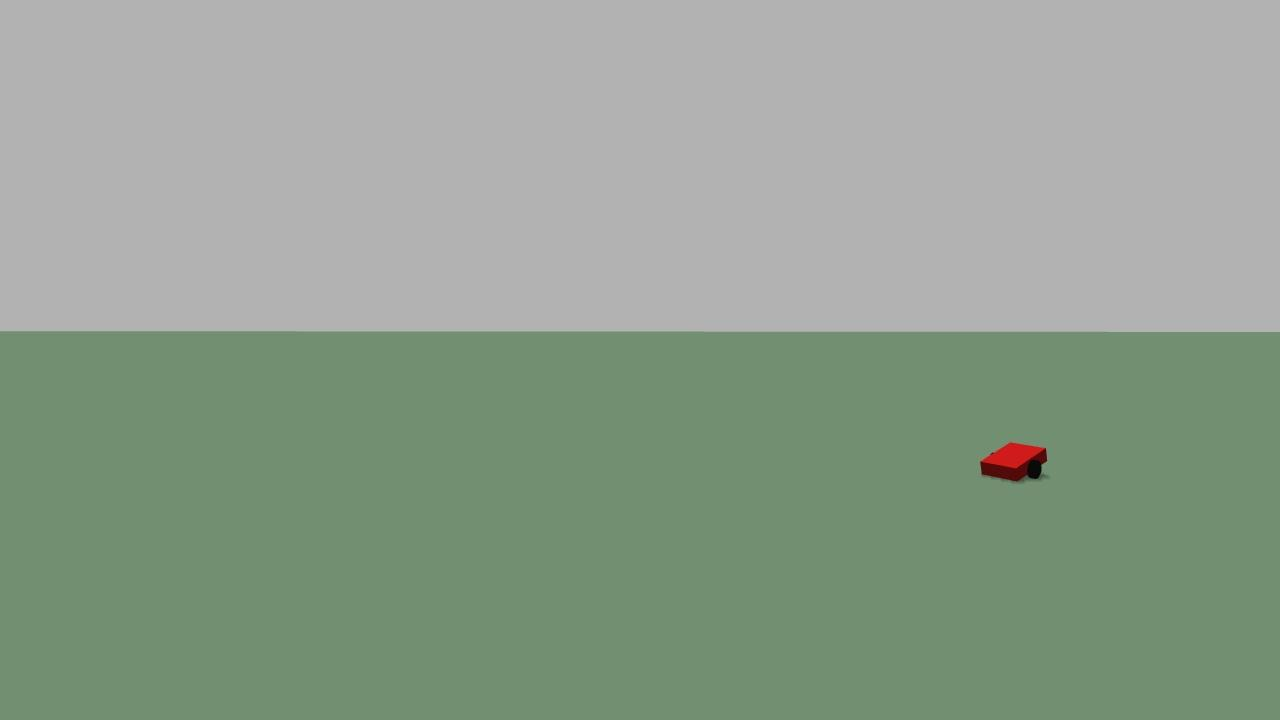ground_vehicle: (969, 439, 1060, 485)
